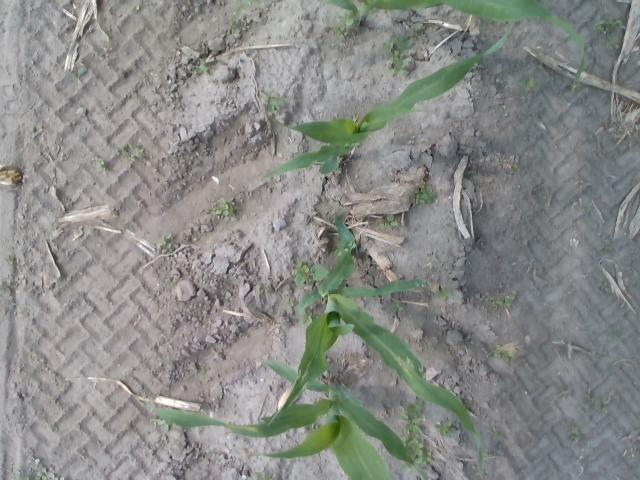Maize: (266, 213, 484, 479), (262, 22, 520, 180), (149, 359, 428, 480), (230, 0, 587, 90)
Weeds: (401, 400, 425, 422), (391, 50, 409, 77), (213, 198, 234, 216), (604, 16, 626, 33), (296, 260, 310, 286), (433, 419, 452, 437), (394, 34, 414, 50), (404, 419, 422, 436), (406, 440, 422, 458), (379, 215, 398, 230), (414, 451, 434, 465), (129, 144, 148, 158), (264, 94, 278, 111), (310, 266, 327, 280), (524, 78, 539, 92), (491, 427, 504, 443), (95, 156, 106, 174), (421, 190, 435, 204), (605, 36, 620, 49), (434, 288, 450, 300), (498, 294, 514, 306), (340, 14, 354, 27), (258, 281, 271, 294), (0, 281, 13, 294), (160, 235, 172, 249), (410, 22, 423, 34), (592, 19, 604, 32), (116, 144, 129, 156), (14, 274, 28, 285), (596, 239, 610, 250), (334, 26, 346, 38), (411, 190, 420, 206), (197, 60, 207, 74), (588, 396, 602, 406), (606, 328, 616, 342), (383, 42, 393, 54), (502, 352, 514, 362), (166, 280, 178, 289), (4, 257, 16, 266), (335, 248, 348, 256), (601, 282, 610, 293), (487, 297, 498, 306), (256, 471, 267, 480), (391, 304, 403, 312), (196, 366, 207, 374), (288, 298, 296, 307), (494, 349, 502, 357), (571, 426, 579, 434), (602, 406, 608, 414), (417, 182, 425, 187)
